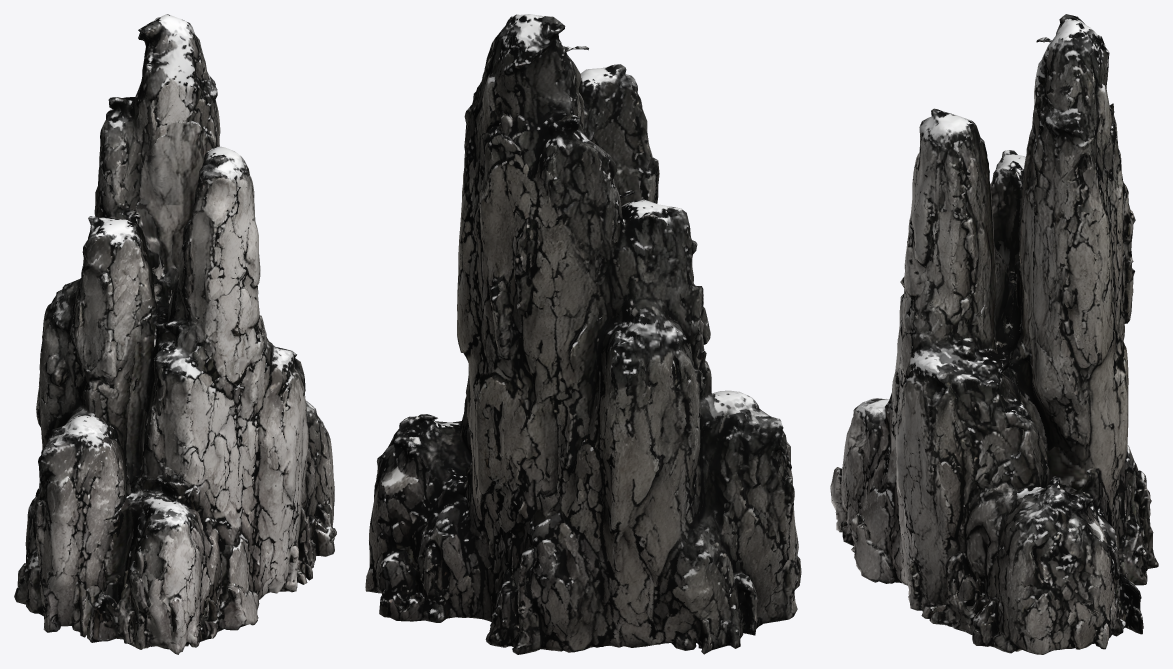
Rendered from InkPart03_TwinPeaks.fbx.
3 views of the same model, side by side, from view 1: azimuth 30°, elevation 25°; view 2: azimuth 150°, elevation 25°; view 3: azimuth 270°, elevation 25° (orthographic). The views are drawn at different scales.
Visible parts, largest first — view 1: texture_mapping; view 2: texture_mapping; view 3: texture_mapping.
Part boxes in pixels (<box>): texture_mapping: <box>14,14,336,654</box>; texture_mapping: <box>365,14,801,654</box>; texture_mapping: <box>830,14,1158,654</box>.
Size of the model in its own units: 0.6402 by 0.5265 by 0.9958.
1 material, 1 textured.
